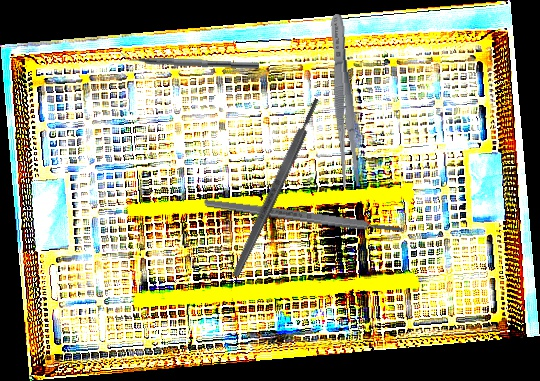Chopper: (116, 48, 260, 70)
Dressing Forceps: (325, 13, 363, 188)
Scalpel Handle: (229, 96, 323, 279), (202, 196, 405, 237)
